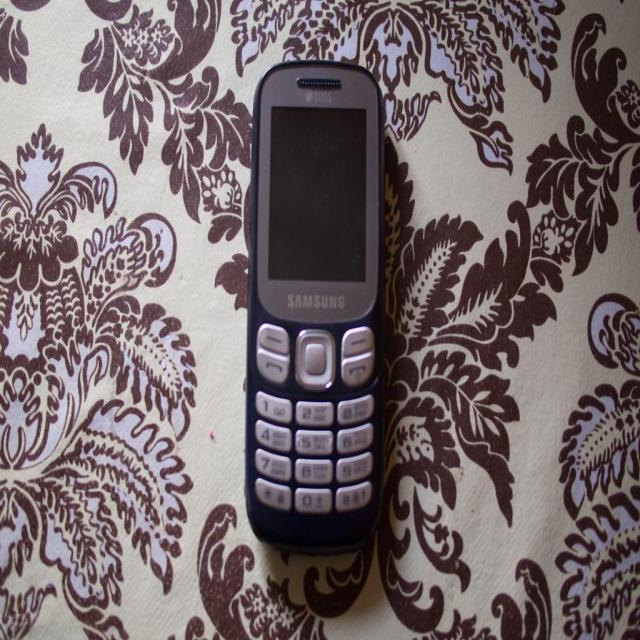Phone: (245, 57, 388, 551)
